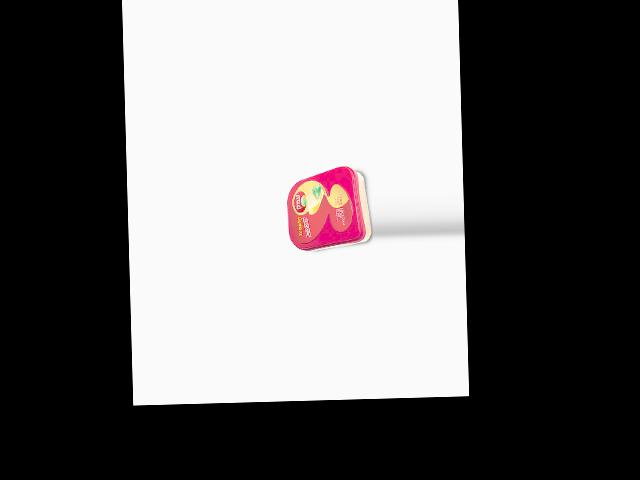cheese: (286, 165, 372, 251)
